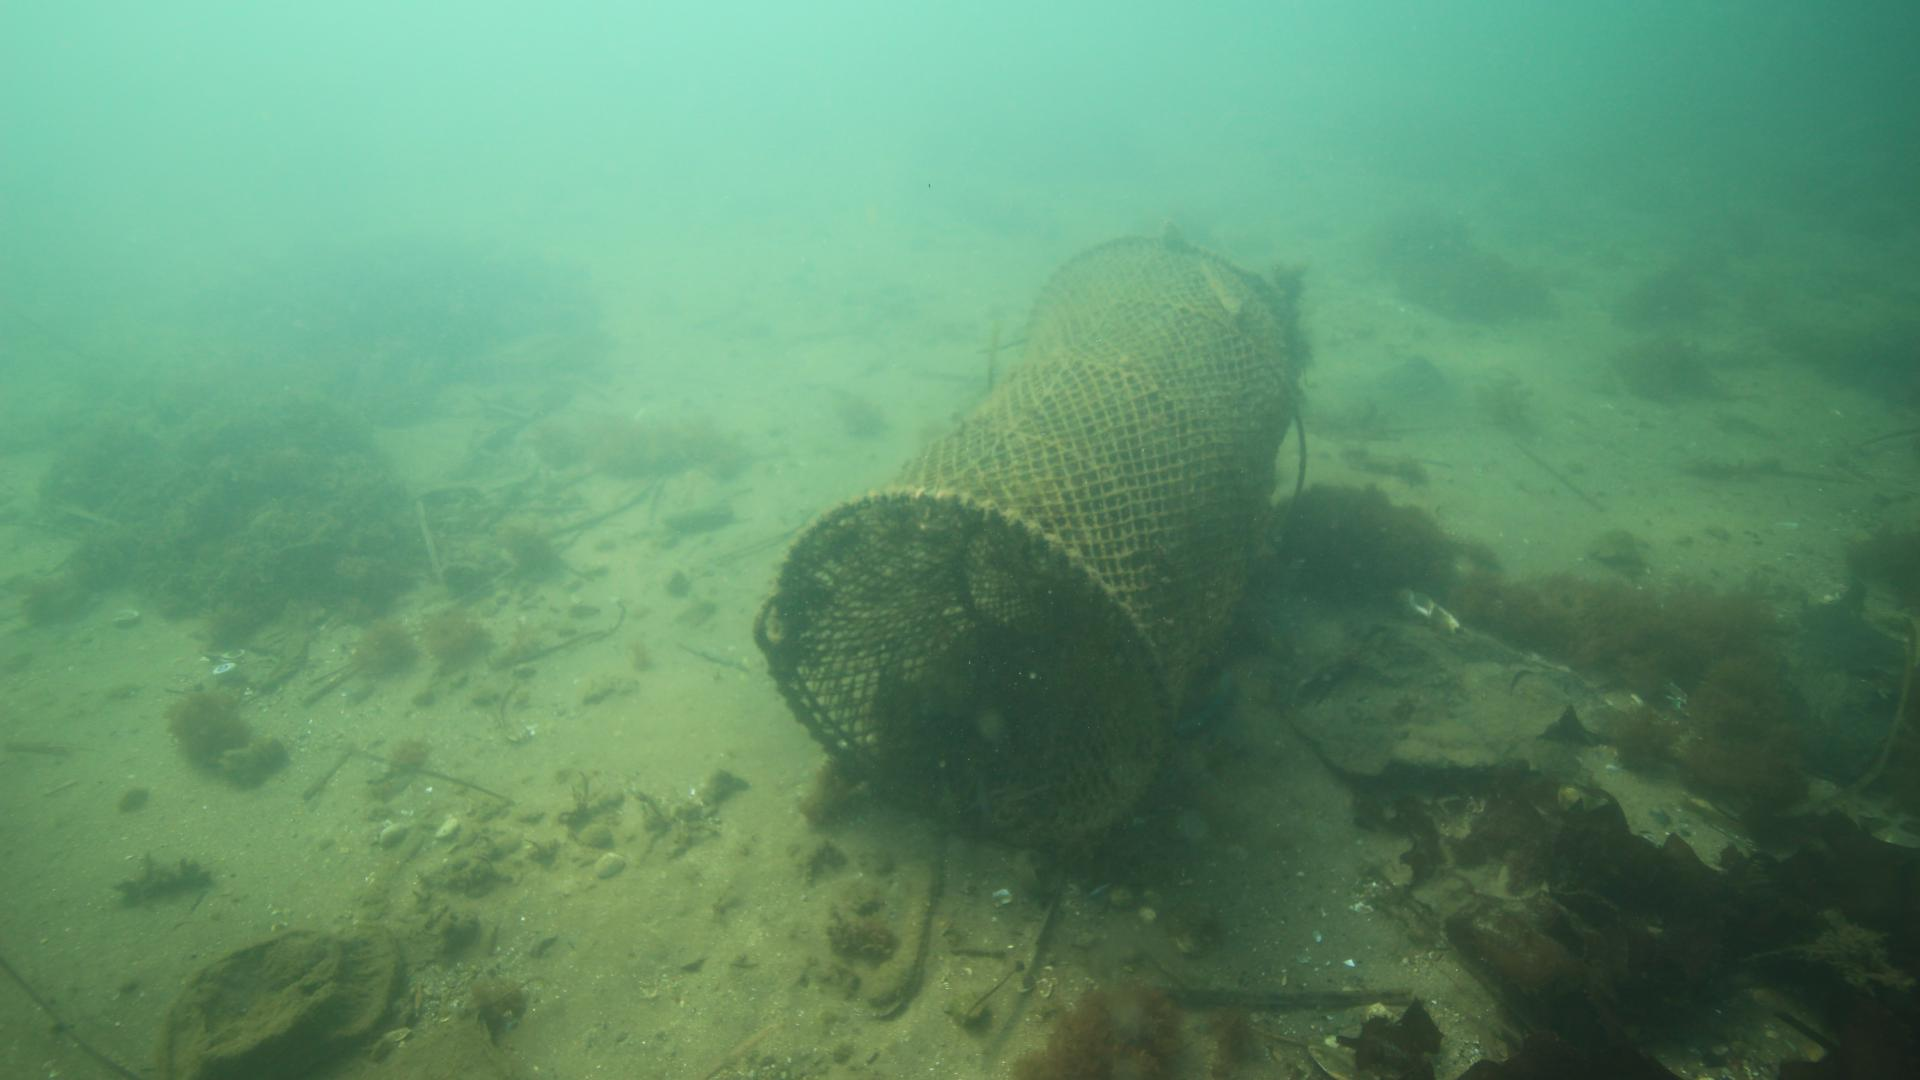spring fish trap: (766, 233, 1299, 847)
